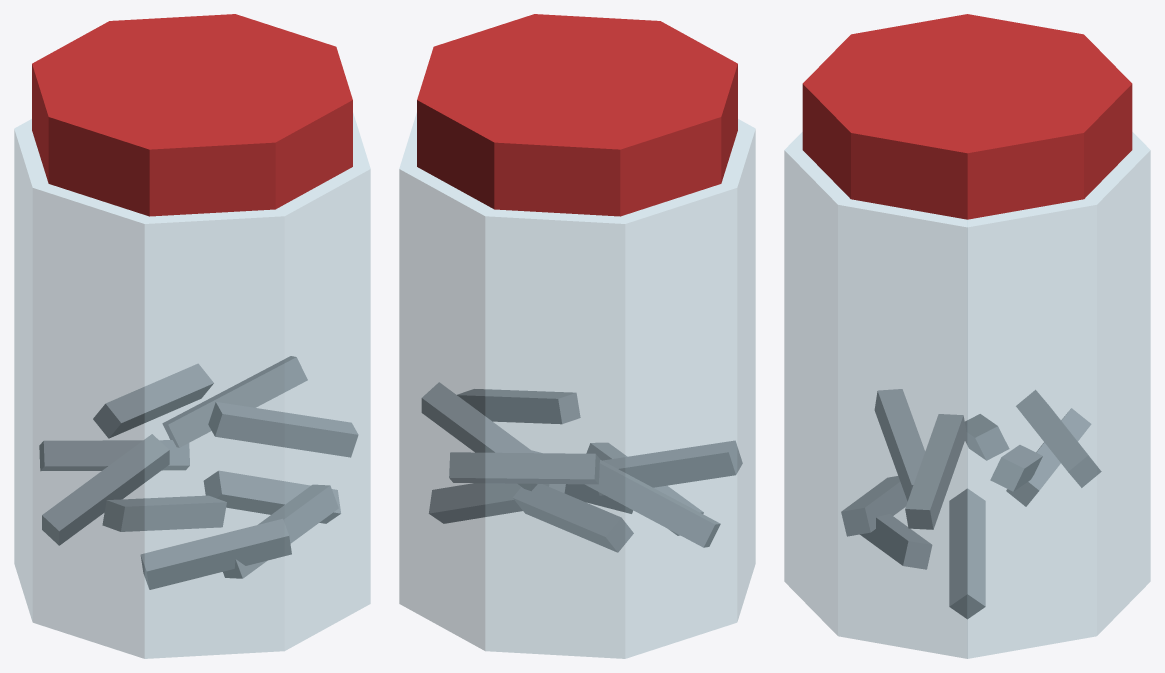
Rendered from screw_jar.glb.
3 views of the same model, side by side, from view 1: azimuth 30°, elevation 25°; view 2: azimuth 150°, elevation 25°; view 3: azimuth 270°, elevation 25° (orthographic).
Visible parts, largest first — view 1: jar_jar_glass, lid_jar_lid, screws_screw_steel; view 2: jar_jar_glass, lid_jar_lid, screws_screw_steel; view 3: jar_jar_glass, lid_jar_lid, screws_screw_steel.
Part boxes in pixels (bbox=[...]): jar_jar_glass: bbox=[14, 113, 370, 658]; lid_jar_lid: bbox=[32, 14, 352, 216]; screws_screw_steel: bbox=[39, 356, 358, 589]; jar_jar_glass: bbox=[399, 113, 755, 658]; lid_jar_lid: bbox=[417, 14, 737, 216]; screws_screw_steel: bbox=[421, 382, 742, 552]; jar_jar_glass: bbox=[784, 132, 1150, 658]; lid_jar_lid: bbox=[802, 14, 1132, 219]; screws_screw_steel: bbox=[841, 389, 1101, 619].
Bounding box in the file's own units: 0.1 × 0.15 × 0.1.
